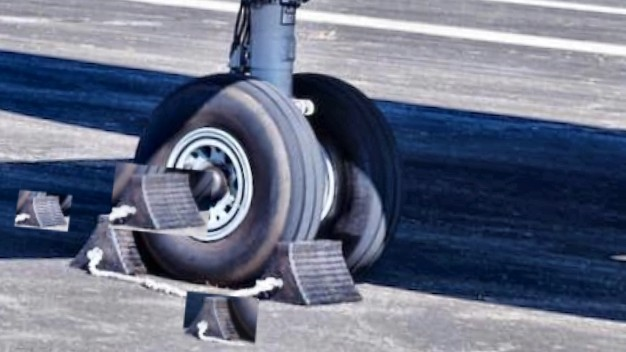chock: (252, 227, 369, 316), (64, 208, 176, 286), (108, 162, 214, 238), (182, 291, 259, 347), (14, 190, 73, 232)
wheel: (122, 68, 326, 295), (276, 69, 415, 283)
